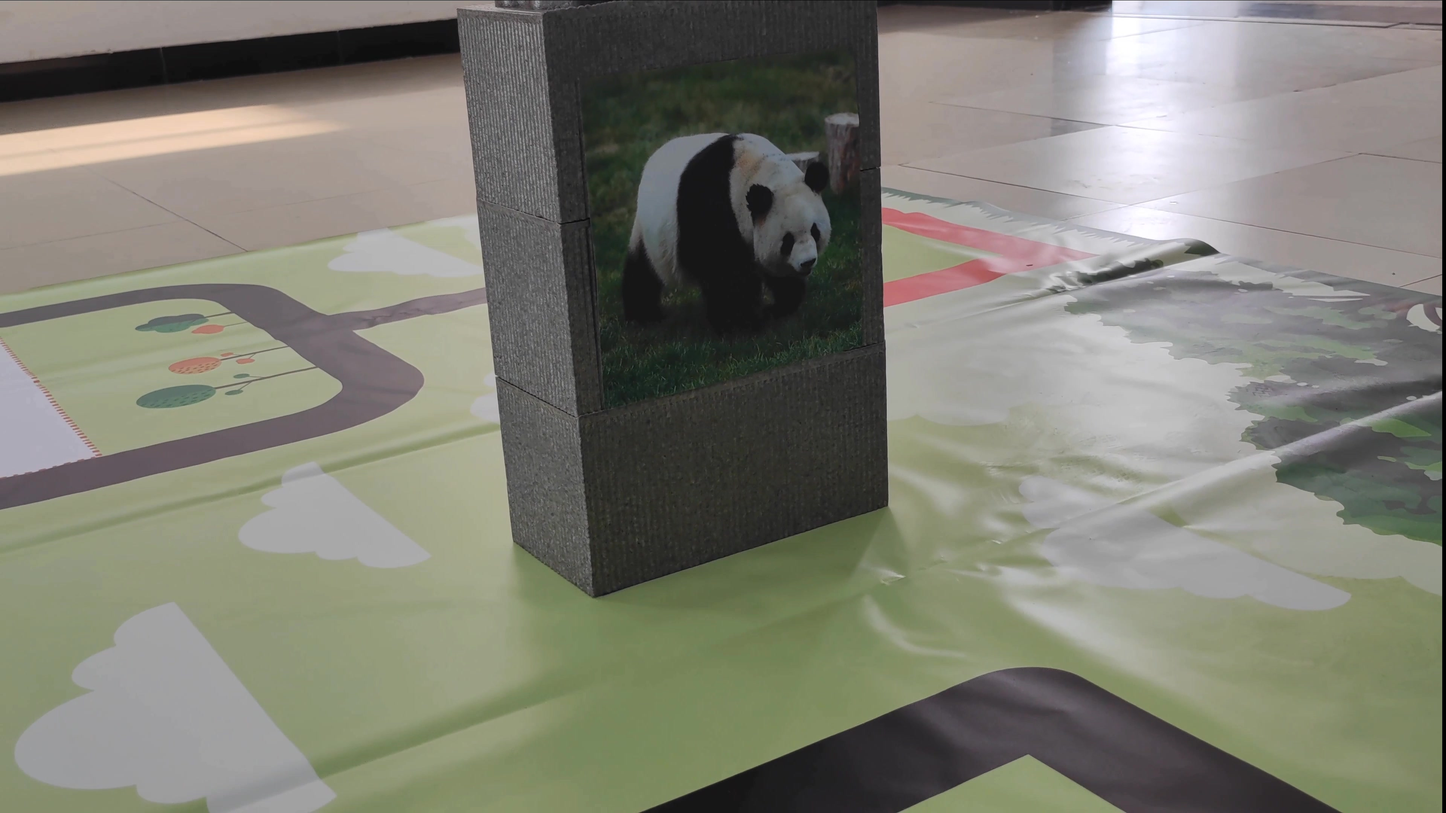panda: (597, 119, 863, 338)
